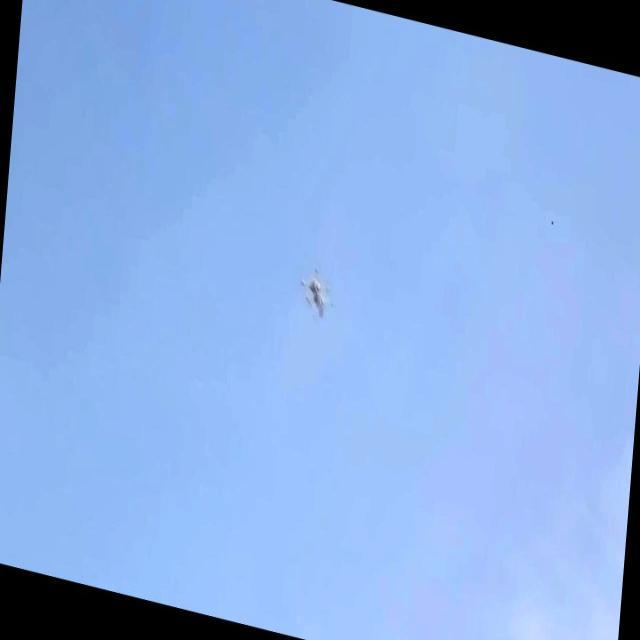drone: (300, 260, 334, 322)
